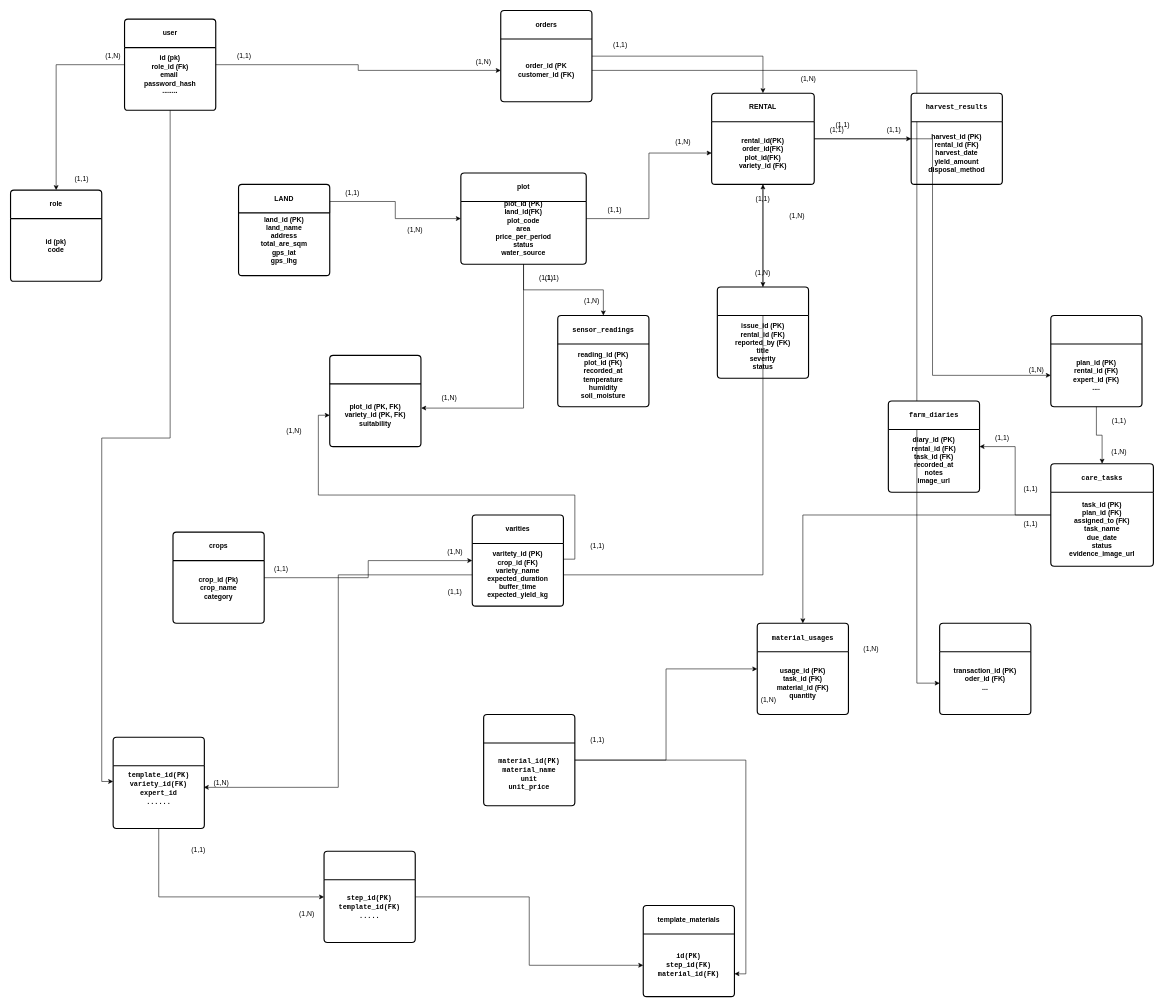
Some shapes in this 1163 by 1007 pixel diagram are drawn without their labels. Each missing label, with the box of its shape:
cultivation_plans: (1050, 315, 1142, 407)
issue_reports: (716, 286, 809, 378)
materials: (483, 714, 575, 806)
payment_transactions: (939, 622, 1031, 715)
plot_crop_compatibility: (329, 355, 421, 447)
process_templates: (112, 736, 205, 829)
template_steps: (323, 850, 416, 943)
